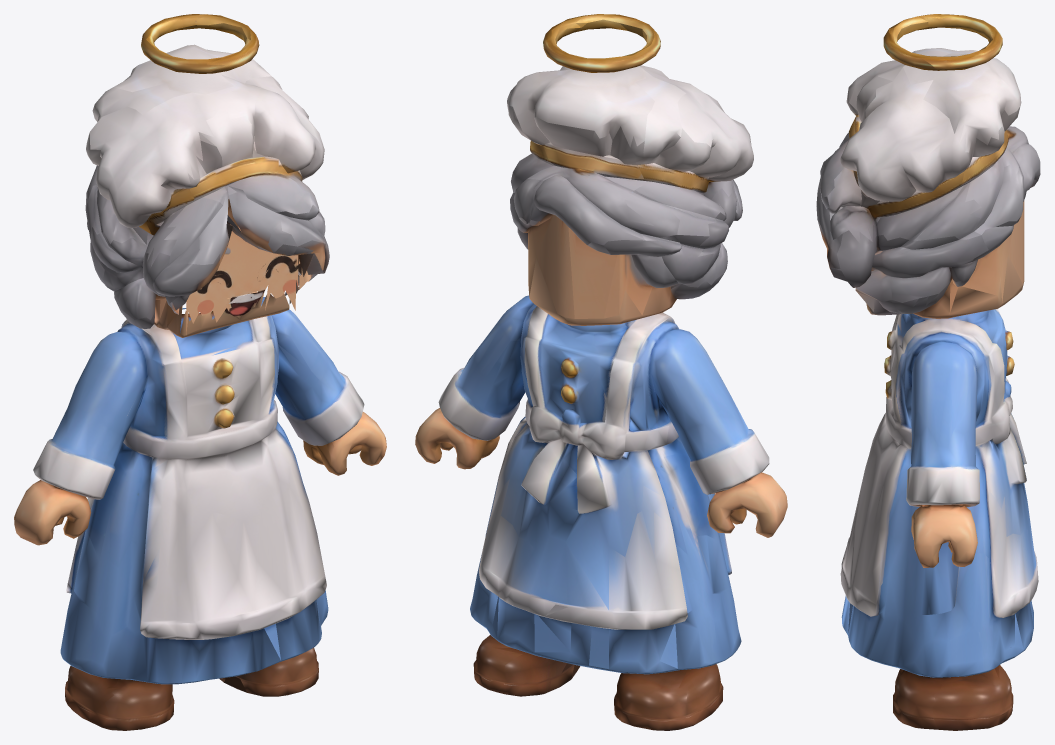
The model's file is NPC_HaloBakerGranny_face.glb.
3 views of the same model, side by side, from view 1: azimuth 30°, elevation 25°; view 2: azimuth 150°, elevation 25°; view 3: azimuth 270°, elevation 25° (orthographic). The views are drawn at different scales.
Visible parts, largest first — view 1: NPC_HaloBakerGranny_Body, NPC_HaloBakerGranny_Head; view 2: NPC_HaloBakerGranny_Body, NPC_HaloBakerGranny_Head; view 3: NPC_HaloBakerGranny_Body, NPC_HaloBakerGranny_Head.
Boxes of the visible parts, box(x1,y1,x2,y2) form: NPC_HaloBakerGranny_Body: box(14, 292, 386, 730); NPC_HaloBakerGranny_Head: box(85, 14, 329, 334); NPC_HaloBakerGranny_Body: box(415, 258, 787, 730); NPC_HaloBakerGranny_Head: box(507, 14, 753, 318); NPC_HaloBakerGranny_Body: box(840, 255, 1038, 730); NPC_HaloBakerGranny_Head: box(816, 14, 1040, 313).
Size of the model in its own units: 0.5597 by 0.9806 by 0.3096.
Materials: 2 (2 with a texture image).
